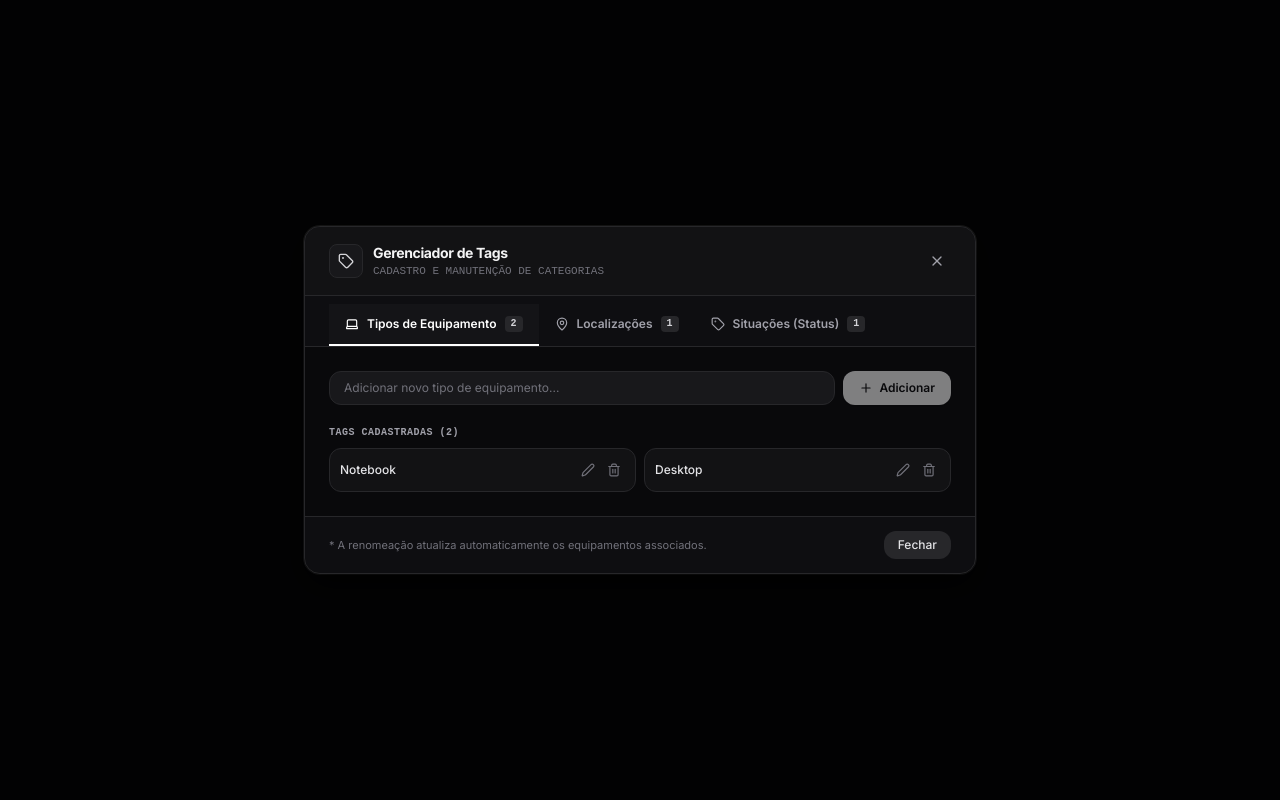
Test: Componente ManageTagsModal › Edita/renomeia uma tag com sucesso
The width and height of the screenshot is (1280, 800).
Expected: the text "Notebook" is shown, [340,462,396,478]
Click the button with test id "edit-tag-btn-1" at (588, 470), box [577,459,599,481]
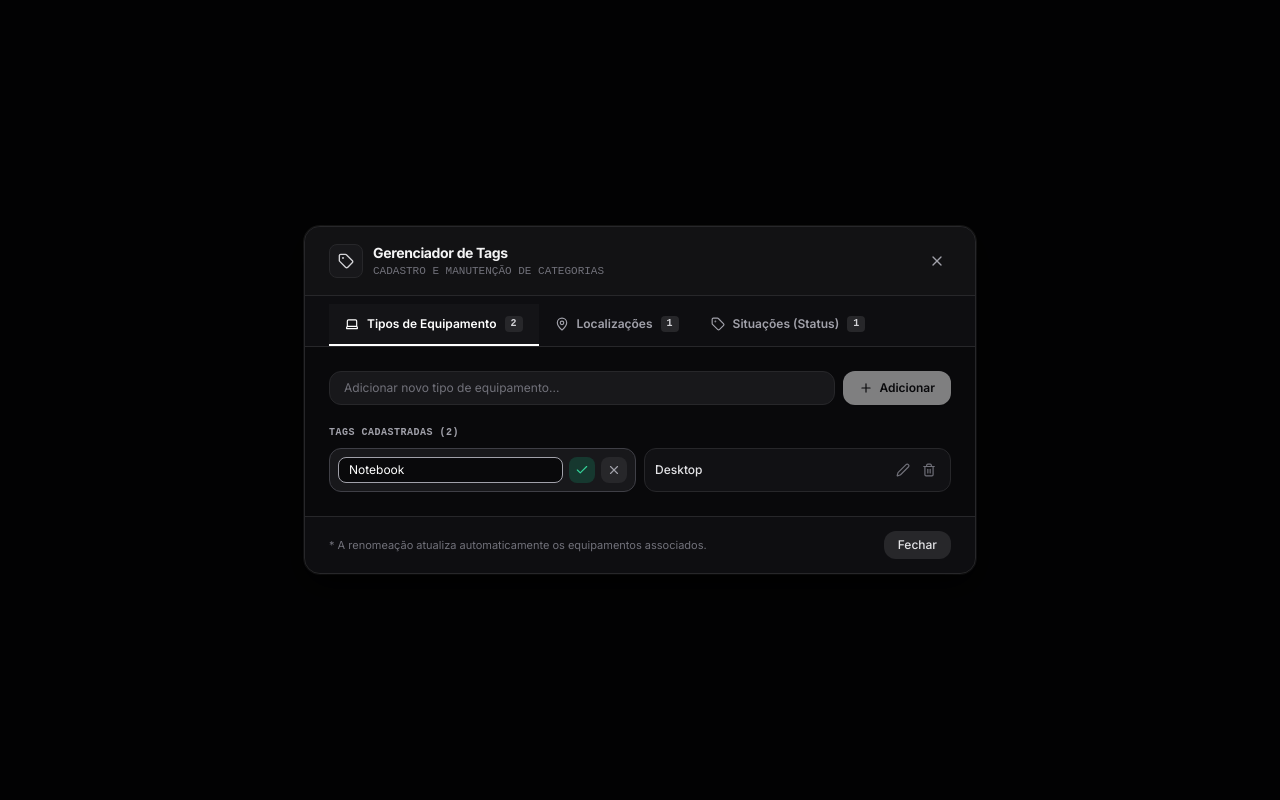
Replace the text in the field showing "Notebook" with "Laptop" at (450, 470), box [338,457,563,483]
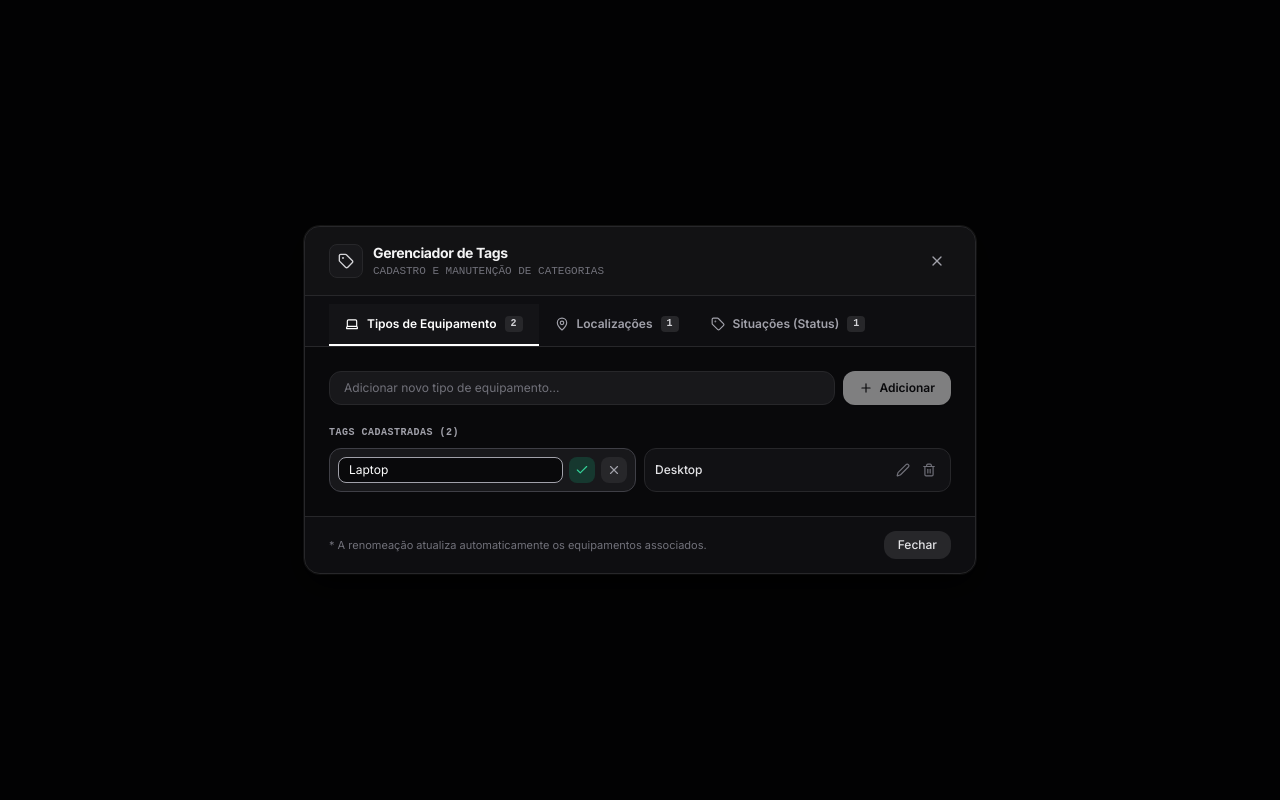
Click the button with test id "save-tag-btn-1" at (582, 470), box [569,457,595,483]
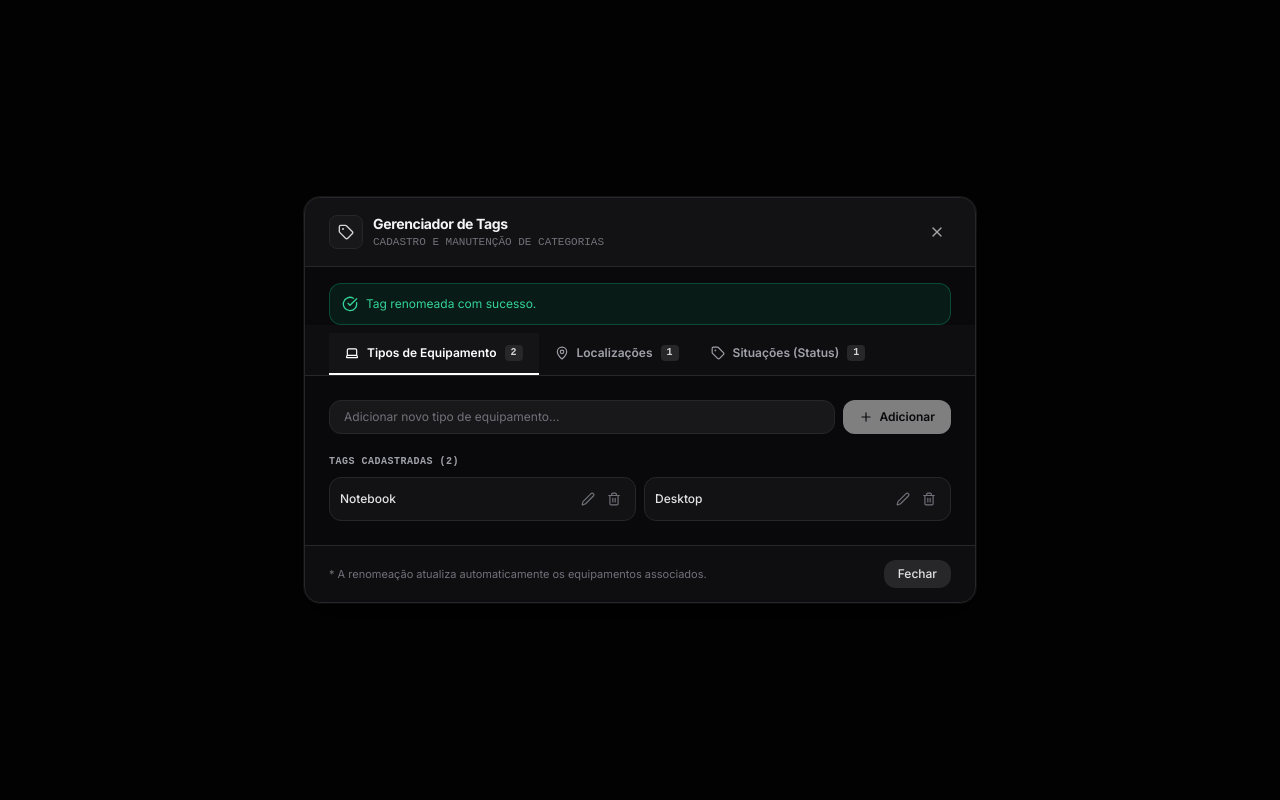
Expected: the text "Tag renomeada com sucesso." is shown, [366,296,536,312]
